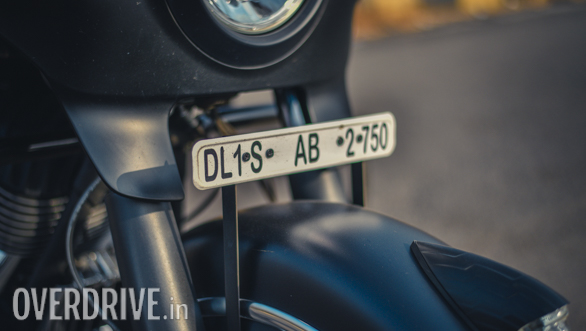plate: (183, 111, 436, 194)
